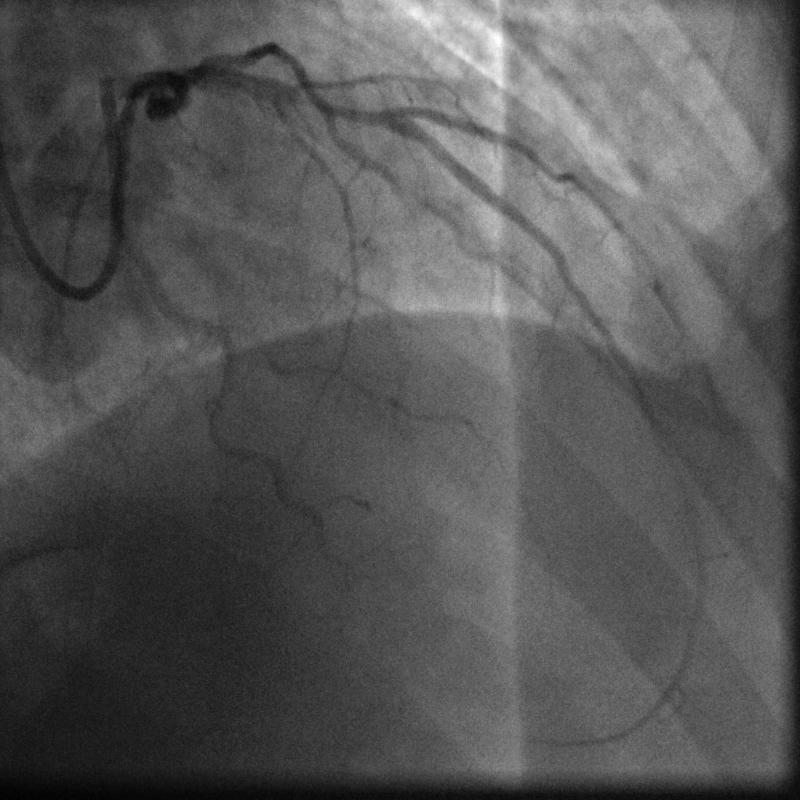Stenosis: (286, 92, 379, 126)
